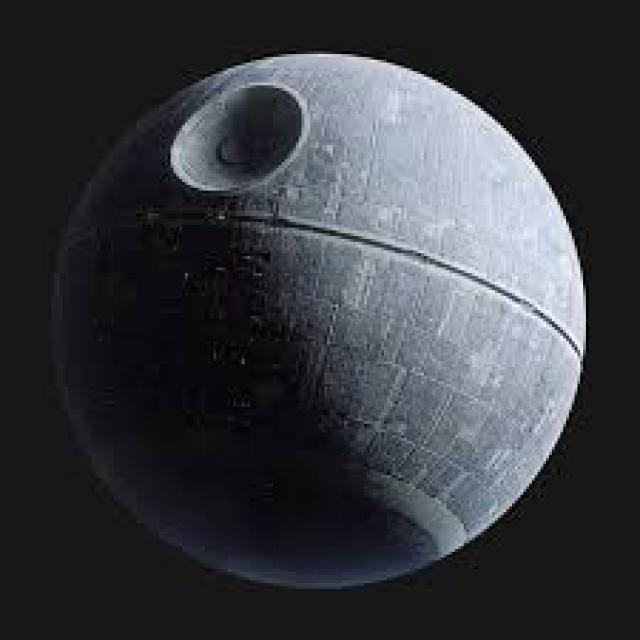deathStar: (49, 50, 591, 594)
